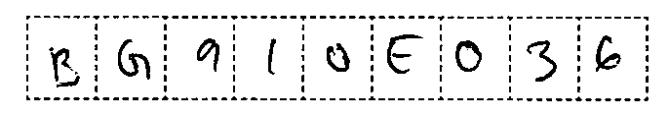0: (316, 36, 358, 80), (448, 37, 487, 79)
1: (252, 34, 288, 80)
3: (521, 36, 560, 87)
6: (588, 29, 628, 78)
9: (192, 32, 225, 78)
B: (44, 43, 85, 92)
E: (381, 29, 427, 78)
G: (111, 34, 158, 84)
